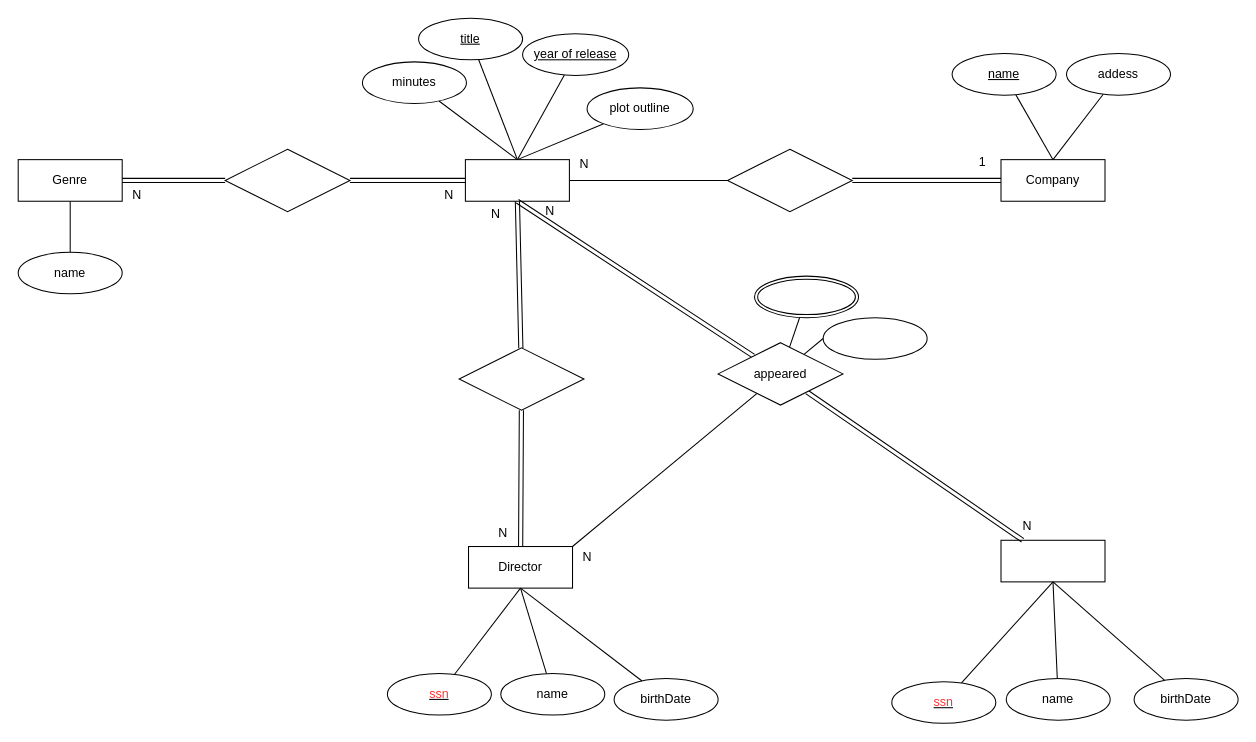
Some shapes in this 1256 by 742 pixel diagram are drawn without their labels. Each missing label, with the box of its shape:
Actor: (1000, 539, 1105, 582)
direct: (458, 347, 584, 410)
genred_by: (224, 148, 350, 212)
Movie: (464, 159, 569, 201)
produce: (726, 148, 852, 212)
quotes: (753, 275, 859, 318)
role: (822, 317, 927, 359)
